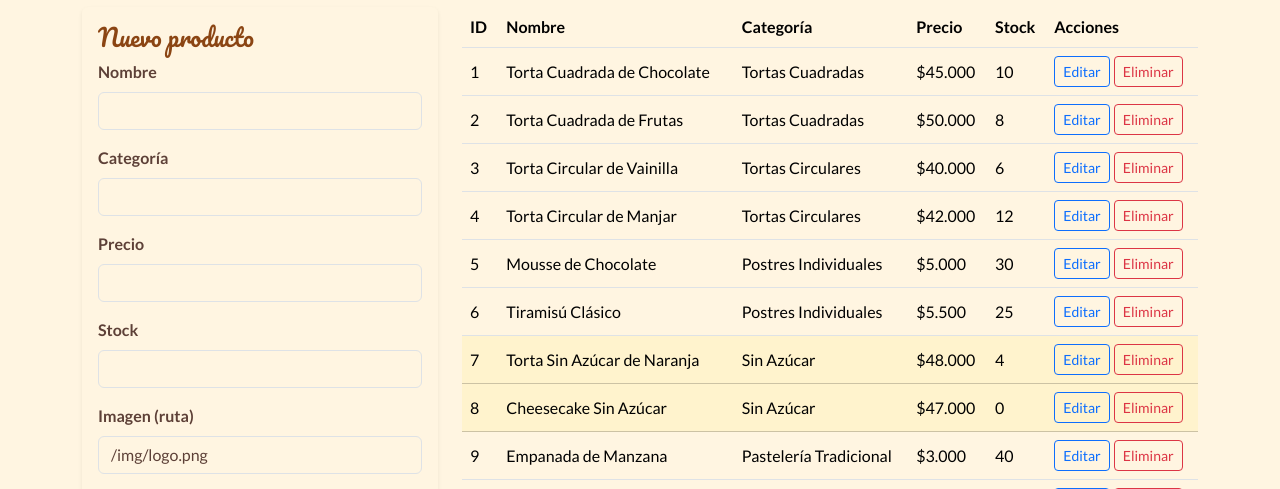
Test: <Admin /> (CRUD de productos) › edita el precio de un producto
Click the button "Editar" in the row of "Torta Cuadrada de Chocolate" at (1082,72), box [1054,56,1110,87]
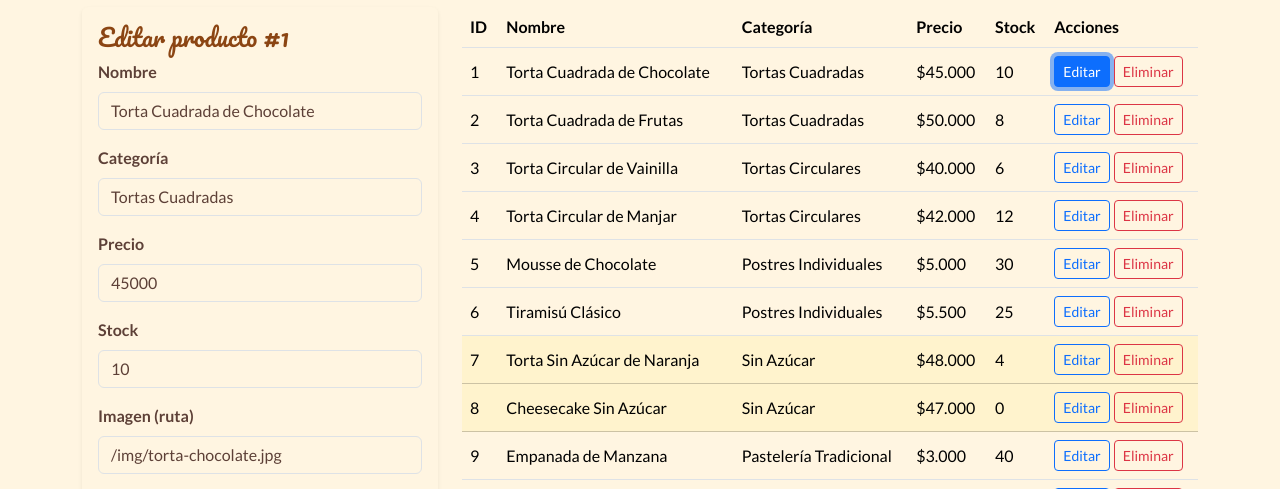
Result: the heading "Editar producto #1" is shown at [98,16,289,58]
Result: the field labelled "Nombre" holds "Torta Cuadrada de Chocolate" at [98,92,422,130]
Replace the text in the number field labelled "Precio" with "49000" at (260,283), box [98,264,422,302]
(page scrolled)
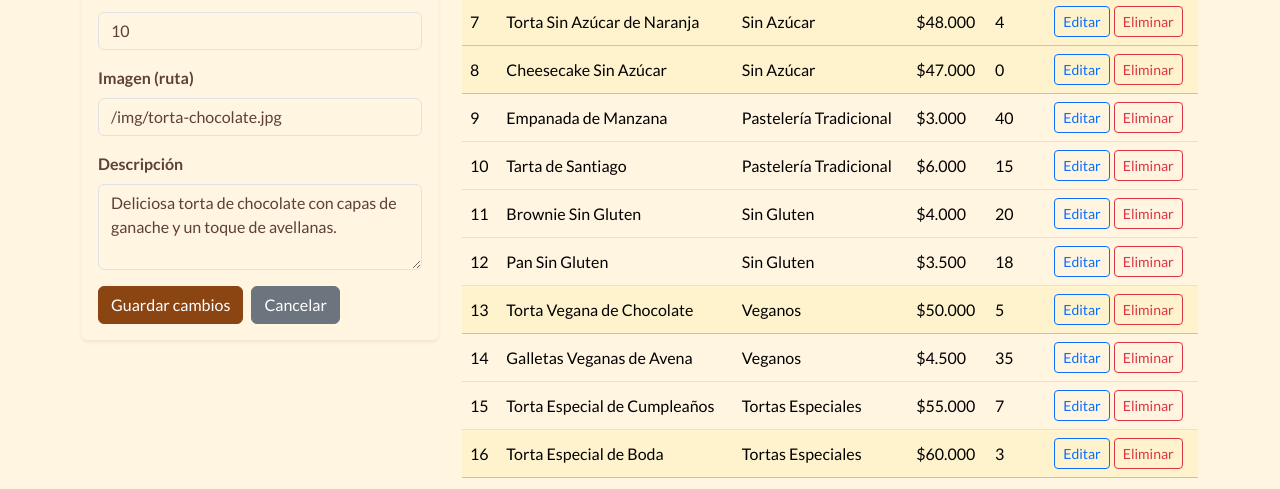
Click the button "Guardar cambios" at (171,305), box [98,286,243,324]
(page scrolled)
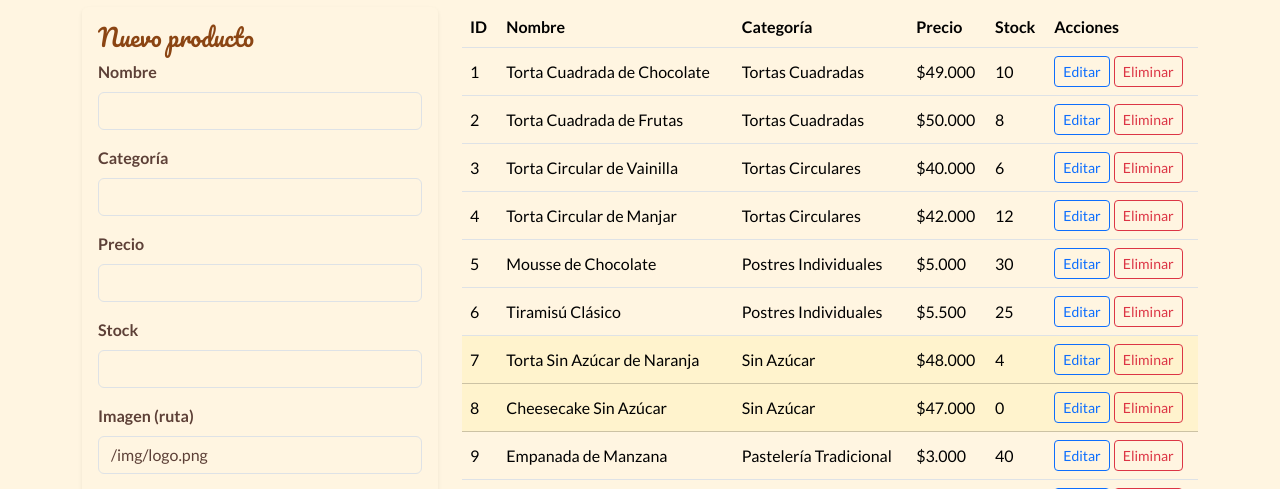
Result: the text "$49.000" is shown at [908,48,987,96]
Result: the heading "Nuevo producto" is shown at [98,16,254,58]
